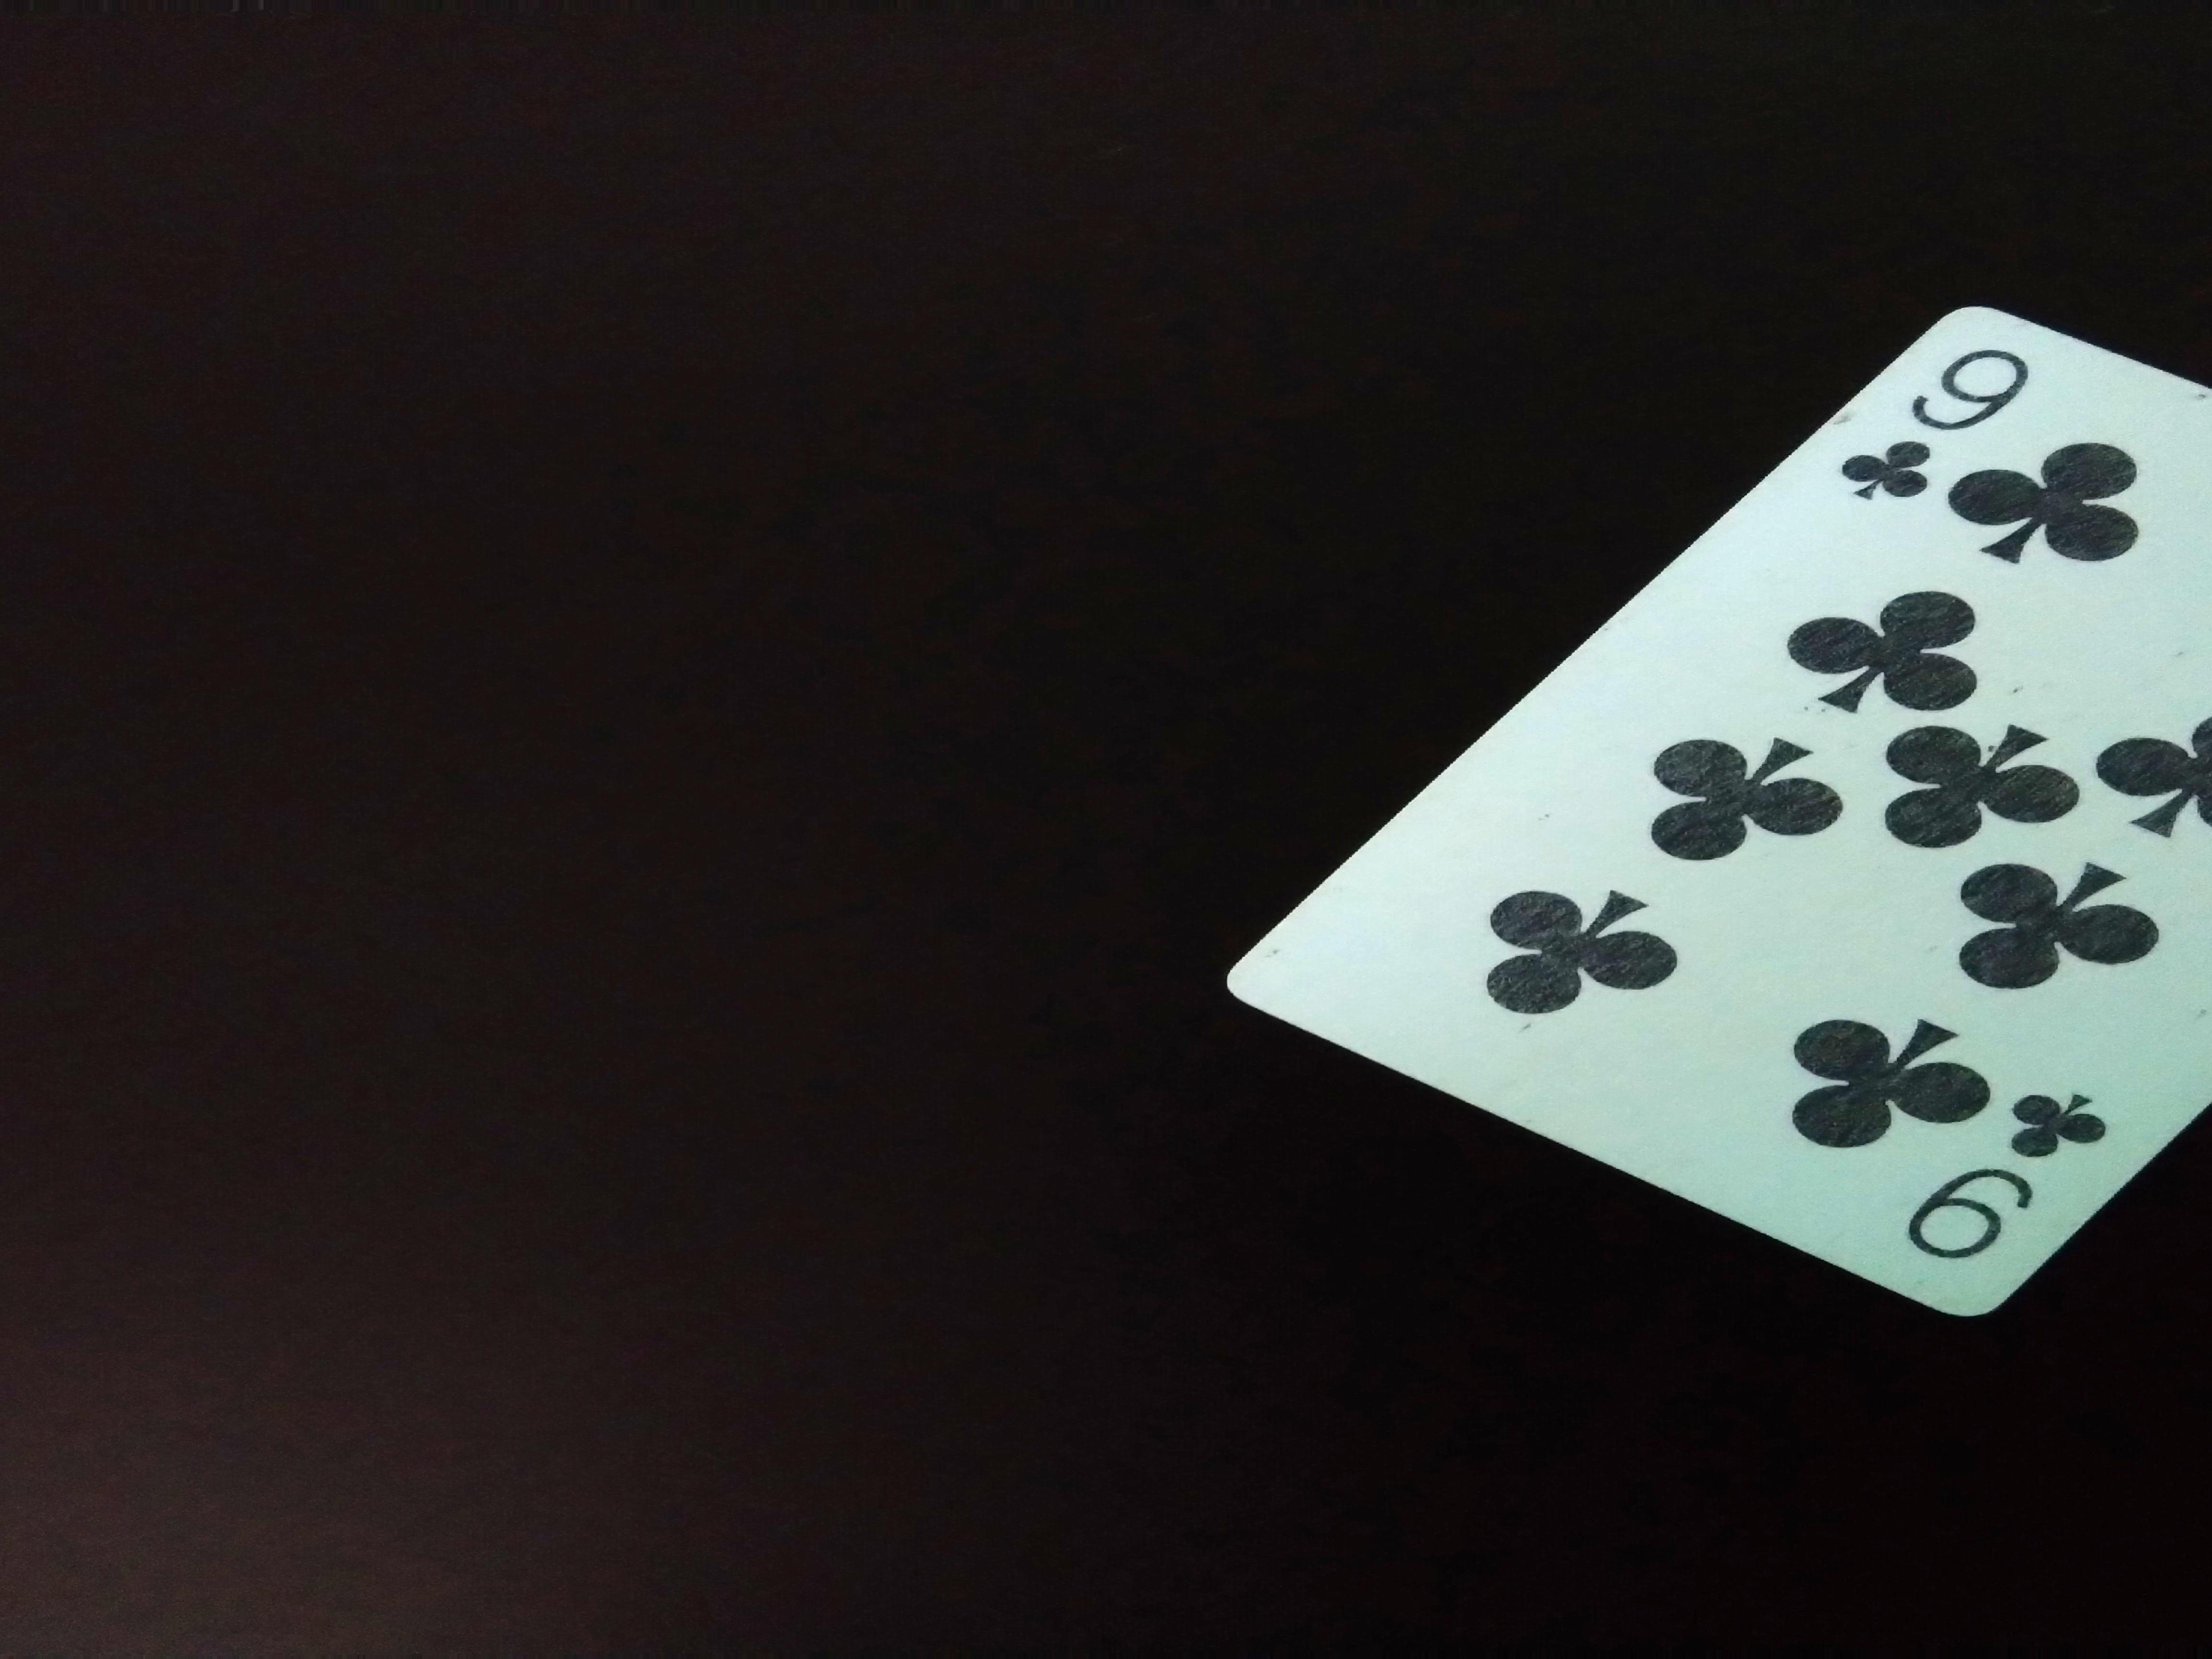9C: (1846, 308, 2015, 512)
